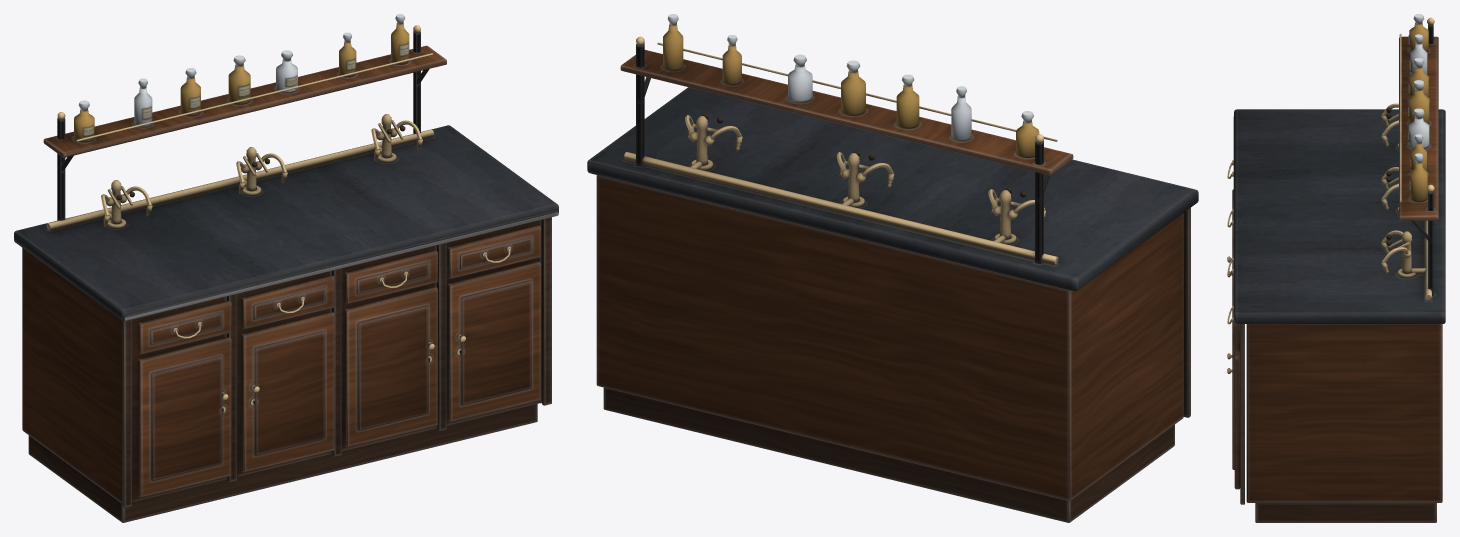
Rendered from LabBench.fbx.
3 renders of one model, left to right at view 1: azimuth 30°, elevation 25°; view 2: azimuth 150°, elevation 25°; view 3: azimuth 270°, elevation 25°, orthographic. The views are drawn at different scales.
Parts seen in each view (by area): view 1: LabBench; view 2: LabBench; view 3: LabBench.
Part boxes in pixels (x1,y1,x2,y2): LabBench: (14,14,558,522); LabBench: (587,14,1198,522); LabBench: (1227,14,1445,522).
Bounding box in the file's own units: 614 × 480 × 277.
